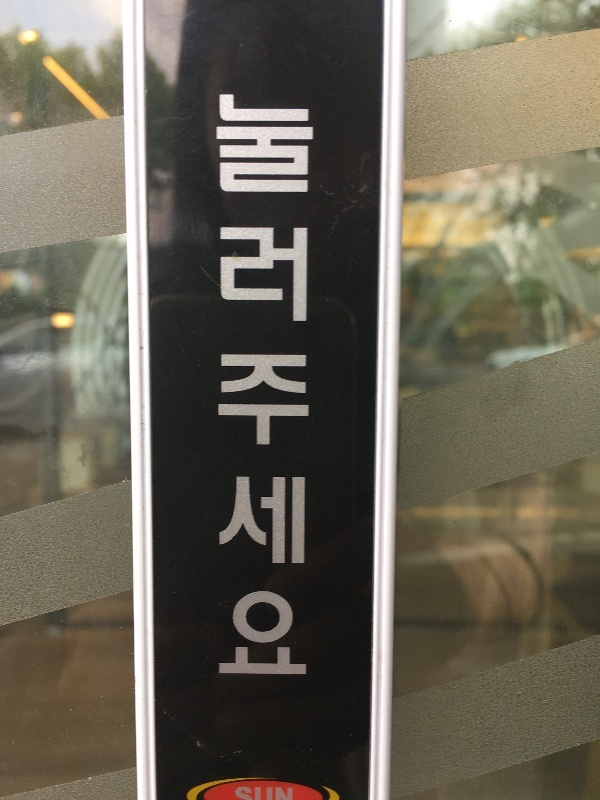text: (225, 91, 240, 676), (241, 91, 256, 676), (257, 91, 272, 676), (273, 91, 288, 676), (289, 91, 304, 676), (305, 91, 315, 676), (216, 91, 224, 676), (241, 786, 256, 800), (257, 786, 272, 800), (273, 786, 288, 800), (236, 786, 240, 800), (289, 786, 293, 800)
